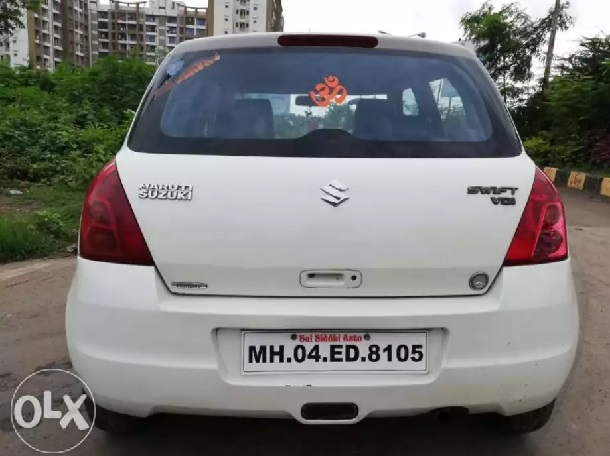licenseplate: (240, 328, 430, 374)
